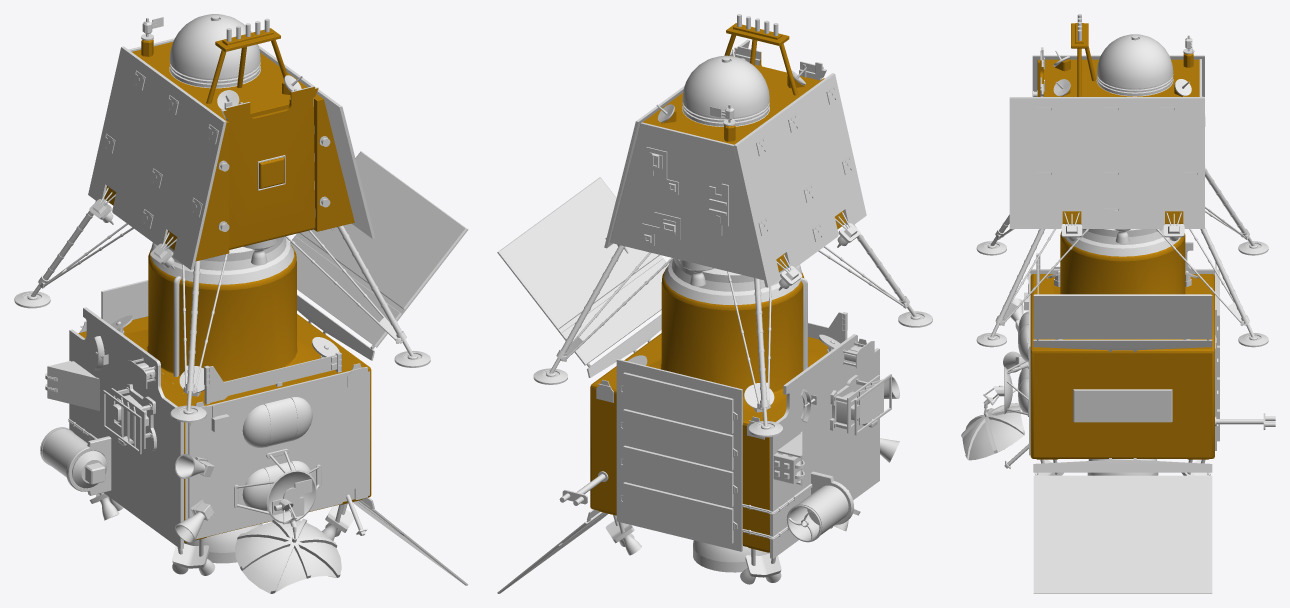
File: Chandrayaan-2_Full.fbx
The picture shows the model from 3 angles, left to right: view 1: azimuth 30°, elevation 25°; view 2: azimuth 150°, elevation 25°; view 3: azimuth 270°, elevation 25°; orthographic projection. The views are drawn at different scales.
Parts seen in each view (by area): view 1: Cahndrayaan_Orbiter, Vikram_Lander; view 2: Cahndrayaan_Orbiter, Vikram_Lander; view 3: Cahndrayaan_Orbiter, Vikram_Lander.
Part boxes in pixels (x1=…): Cahndrayaan_Orbiter: x1=40, y1=151, x2=468, y2=593; Vikram_Lander: x1=14, y1=14, x2=430, y2=422; Cahndrayaan_Orbiter: x1=497, y1=177, x2=899, y2=593; Vikram_Lander: x1=533, y1=14, x2=932, y2=437; Cahndrayaan_Orbiter: x1=961, y1=224, x2=1275, y2=593; Vikram_Lander: x1=976, y1=14, x2=1268, y2=347.
Size of the model in its own units: 2.67 by 4.51 by 2.61.
